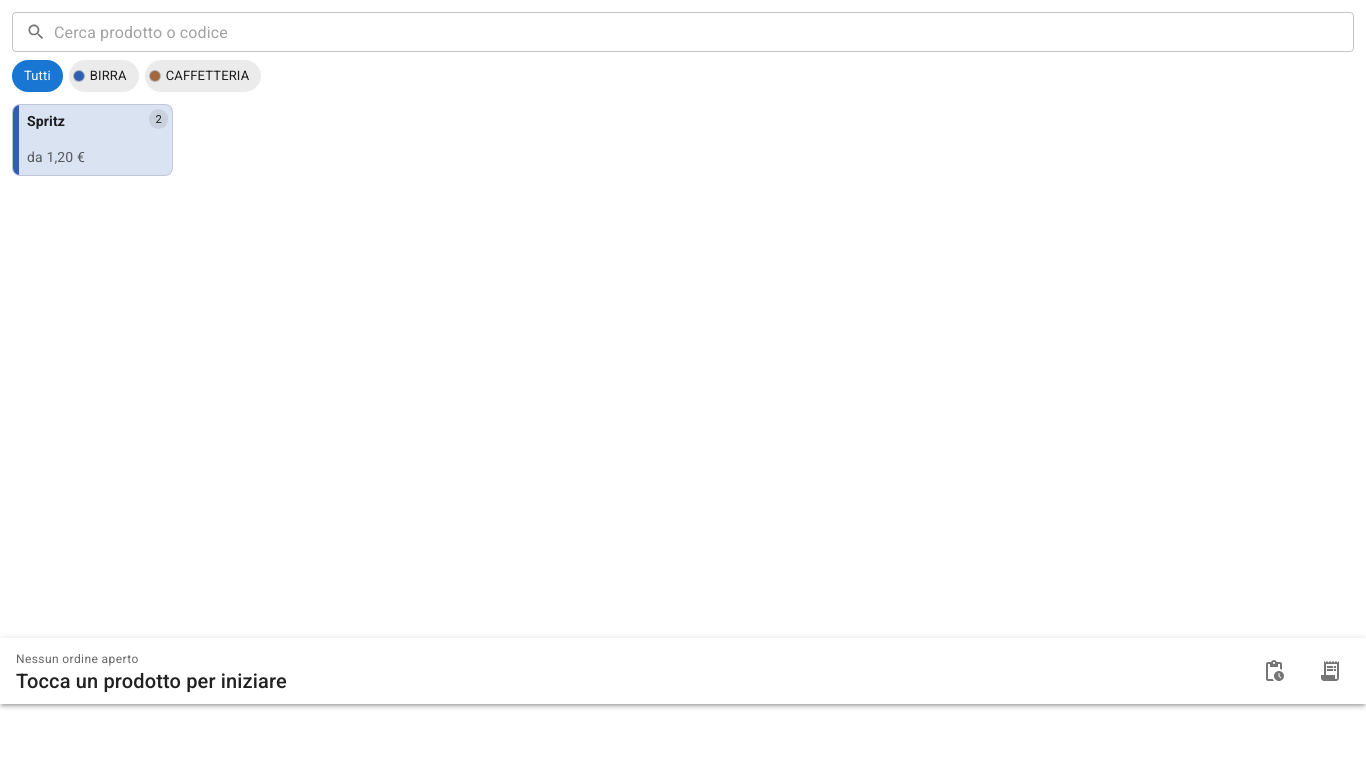
Test case: PuntoVendita › gruppi di prodotti › il tocco sul gruppo apre le varianti, e battere una la chiude
Click the text "Spritz". click: (46, 122)
box: left=27, top=113, right=65, bottom=130
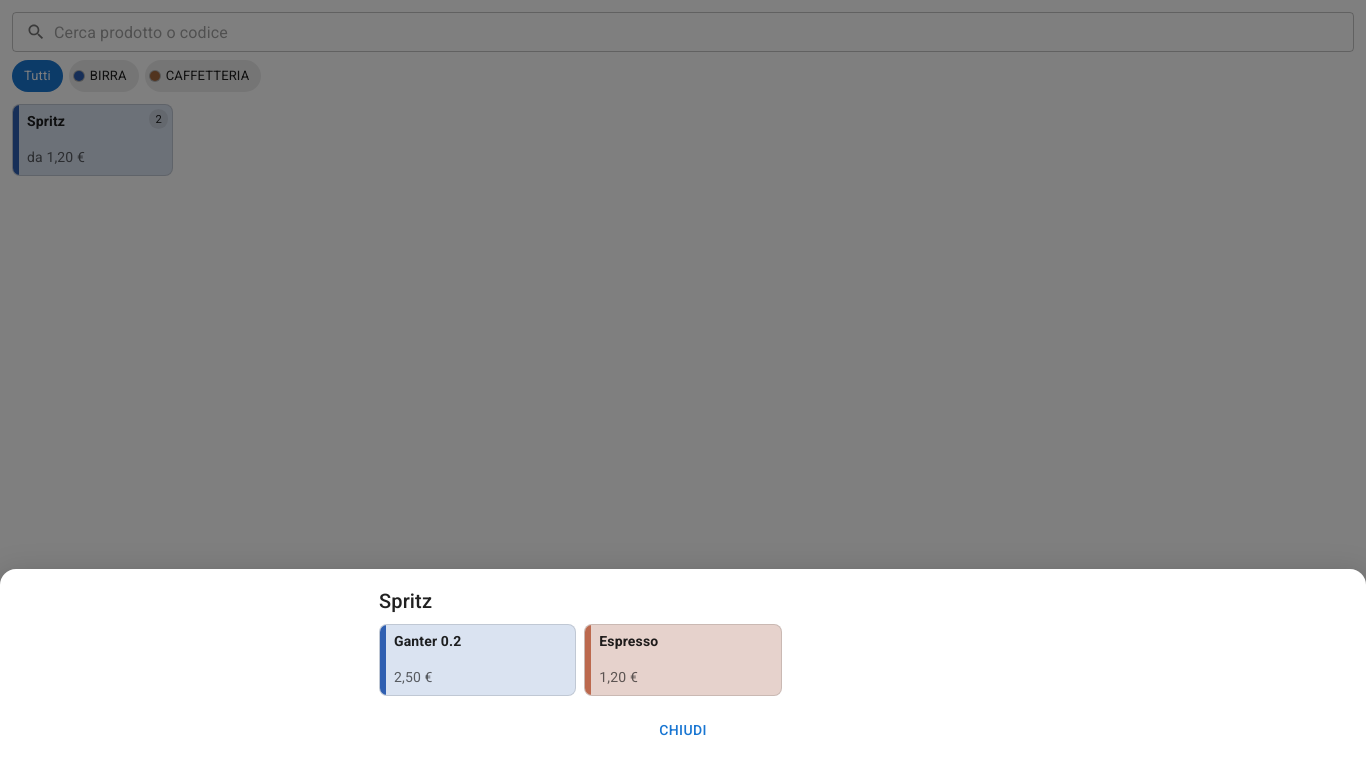
Expected: the text "Ganter 0.2" is shown
Click the text "Ganter 0.2". click: (428, 642)
box: left=394, top=633, right=461, bottom=650
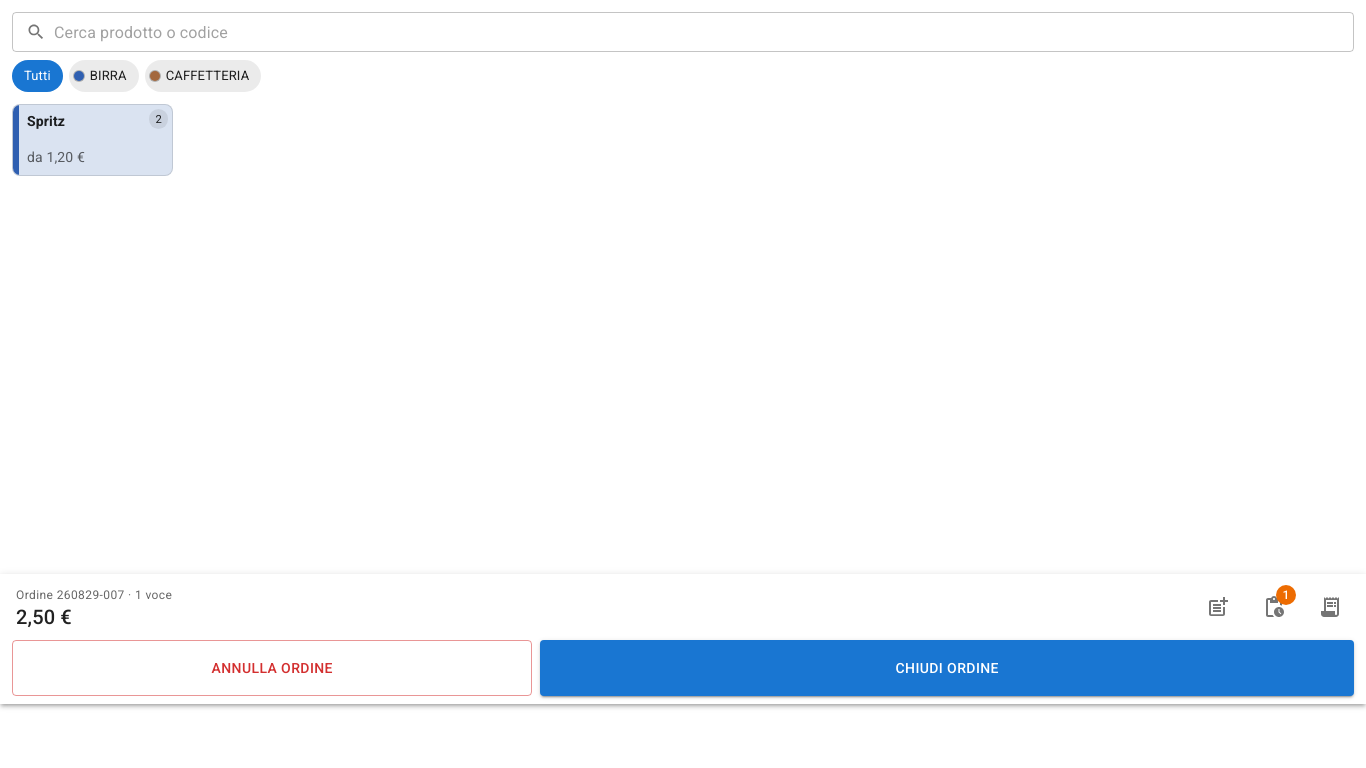
Expected: the button "Ganter 0.2" is gone
